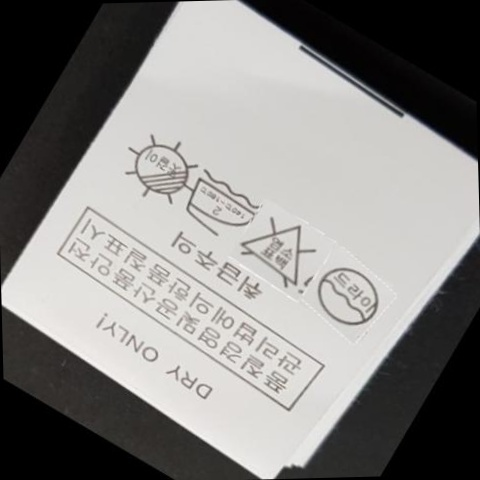dry_clean: (318, 264, 379, 329)
iron_medium: (186, 172, 254, 235)
line_dry_in_shade: (128, 134, 196, 206)
non_chlorine_bleach: (244, 210, 320, 288)
